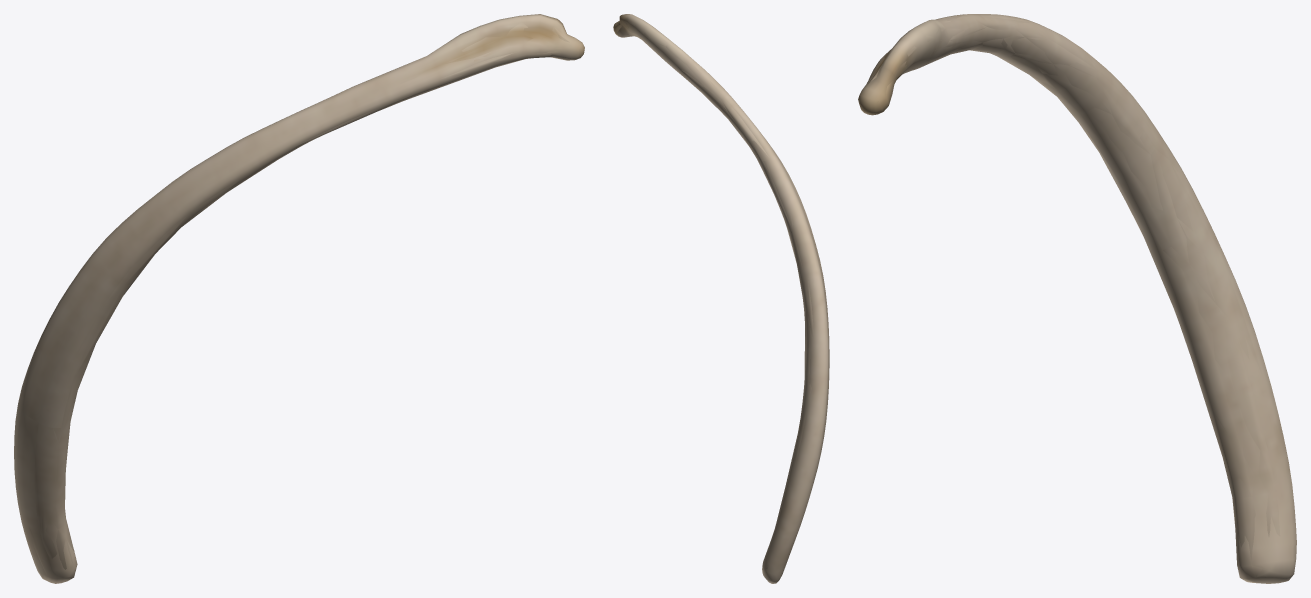
Rendered from Rib R14.fbx.
3 renders of one model, left to right at view 1: azimuth 30°, elevation 25°; view 2: azimuth 150°, elevation 25°; view 3: azimuth 270°, elevation 25°, orthographic. The views are drawn at different scales.
Visible parts, largest first — view 1: Rib R14, Rib R14 low; view 2: Rib R14, Rib R14 low; view 3: Rib R14 low, Rib R14.
Part boxes in pixels (x1,y1,x2,y2): Rib R14: (14, 14, 584, 583); Rib R14 low: (15, 14, 570, 581); Rib R14: (613, 14, 829, 583); Rib R14 low: (615, 15, 828, 583); Rib R14 low: (859, 14, 1296, 579); Rib R14: (858, 14, 1296, 583).
Size of the model in its own units: 26.57 by 35.21 by 18.6.
Materials: 1 (1 with a texture image).
